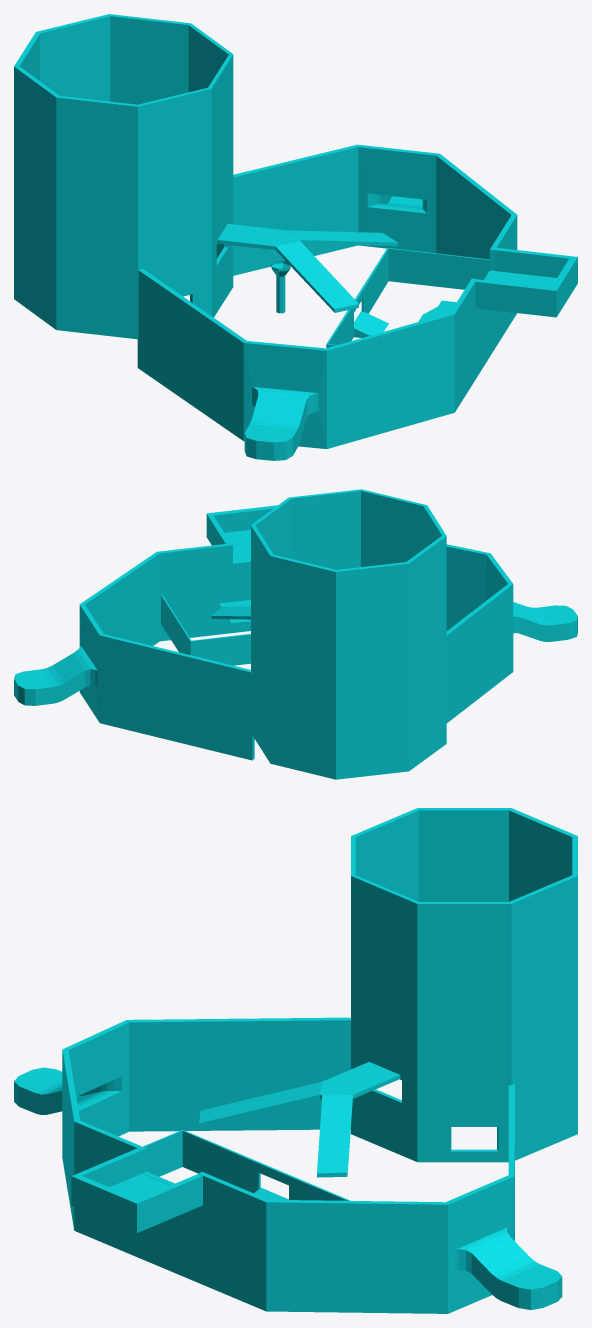
The model's file is TestScale.fbx.
3 renders of one model, top to bottom at view 1: azimuth 30°, elevation 25°; view 2: azimuth 150°, elevation 25°; view 3: azimuth 270°, elevation 25°, orthographic. The views are drawn at different scales.
Parts seen in each view (by area): view 1: MainGeometry; view 2: MainGeometry; view 3: MainGeometry.
Part boxes in pixels (x1=…): MainGeometry: x1=14, y1=14, x2=577, y2=460; MainGeometry: x1=14, y1=489, x2=577, y2=779; MainGeometry: x1=14, y1=808, x2=577, y2=1313.
Bounding box in the file's own units: 24370 × 14100 × 24803.
